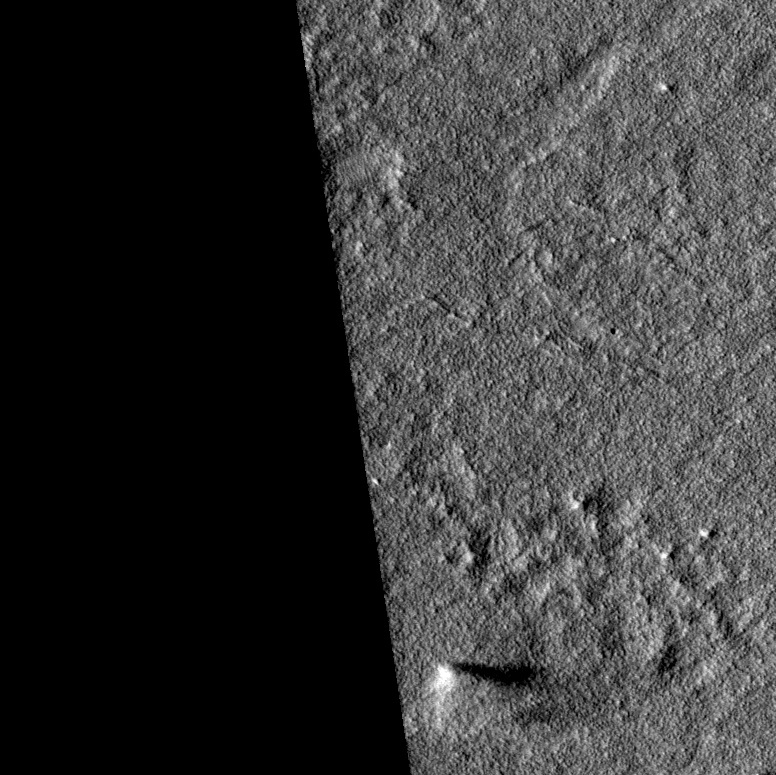dust_devil: (423, 659, 540, 703)
